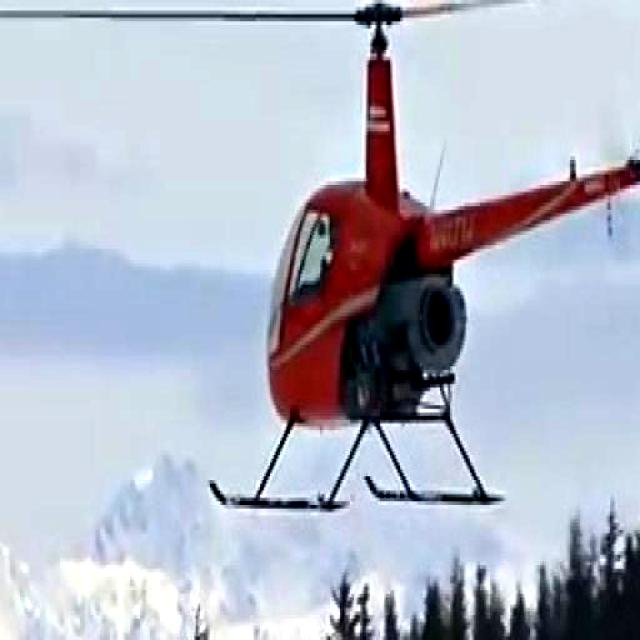drone: (0, 0, 640, 512)
